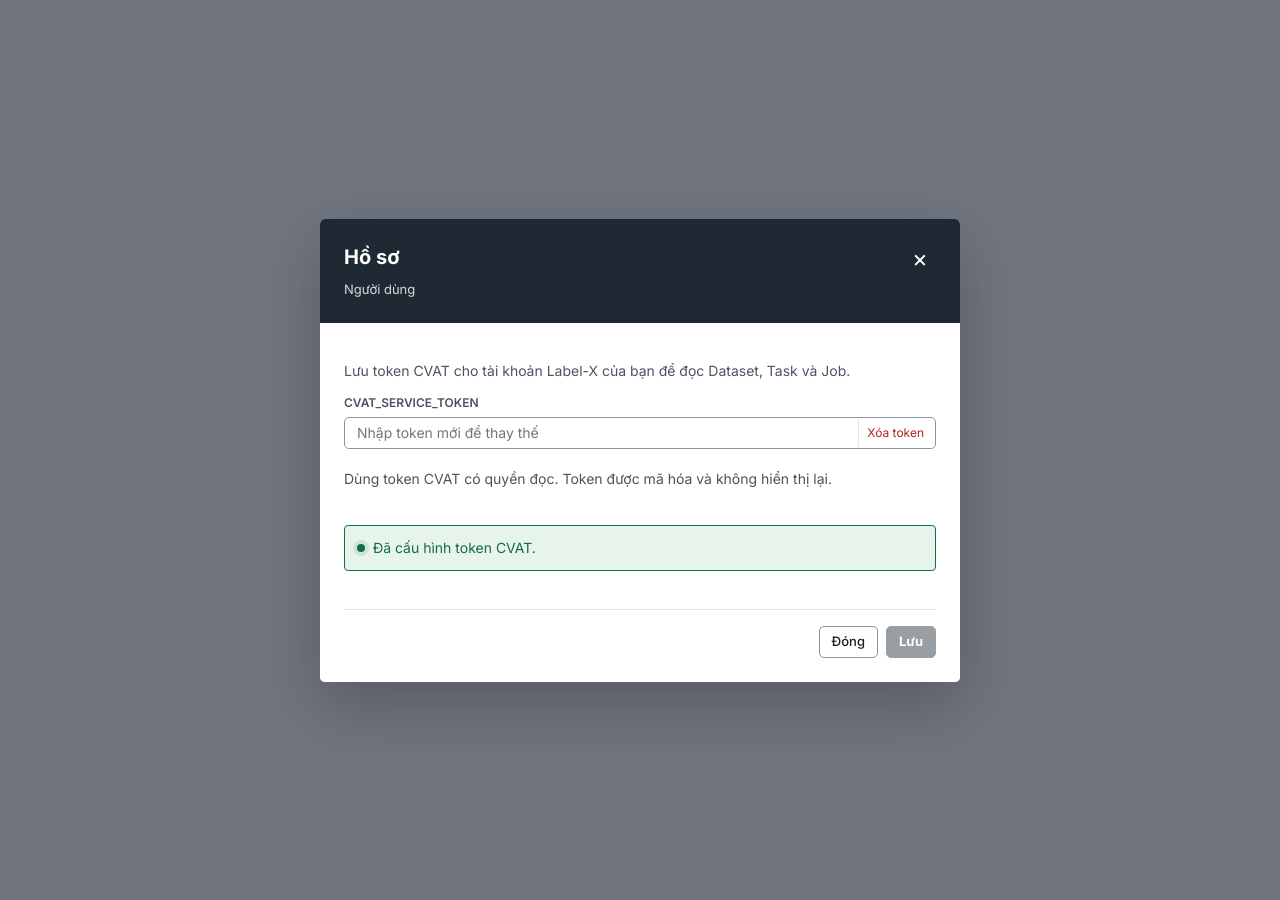
Test case: shows the configured indicator and removes the saved token from the input
This screenshot has width=1280, height=900.
Click the button with aria-label "Xóa token CVAT hiện tại": {"x": 895, "y": 432} 858,418 -> 932,446
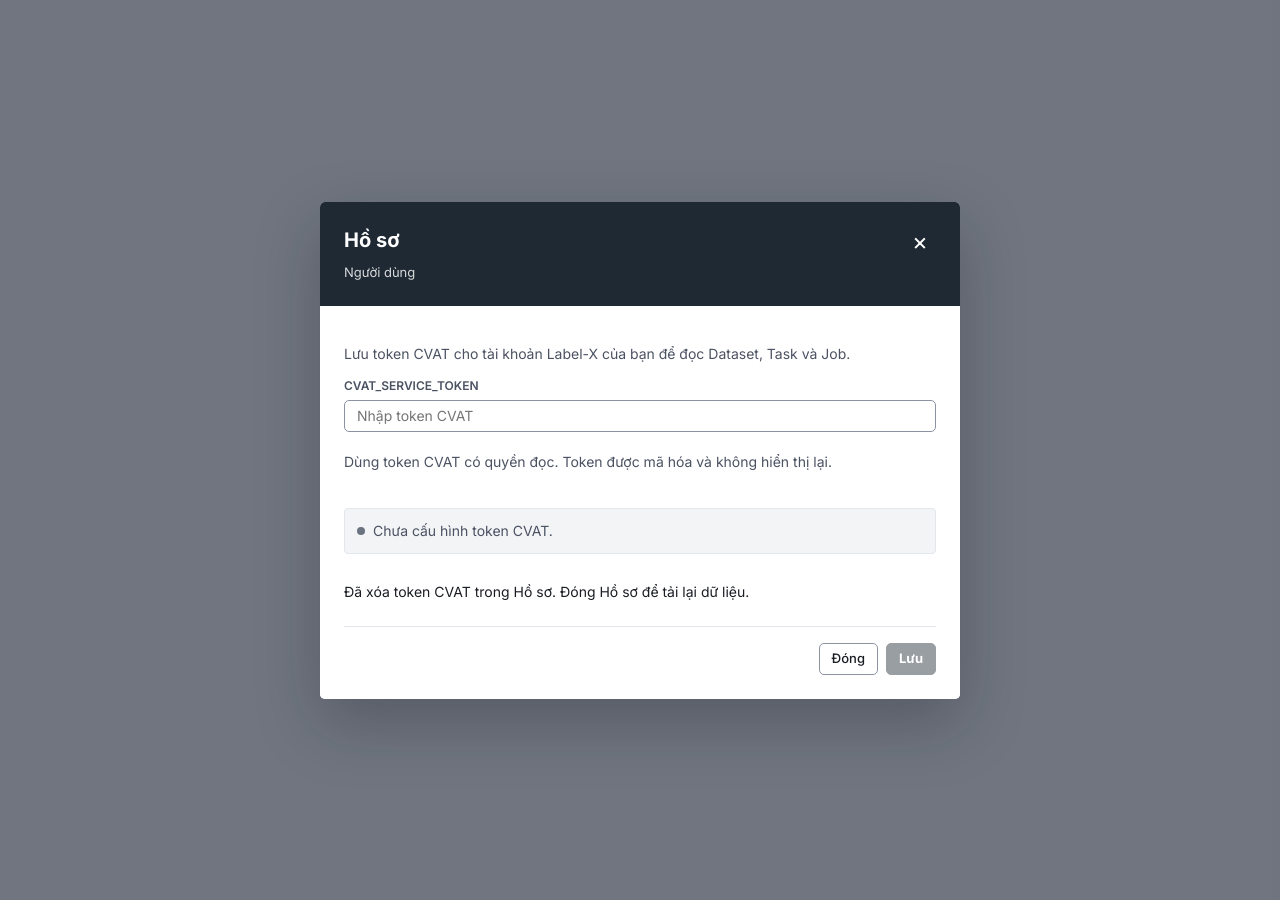
Now the text "Chưa cấu hình token CVAT." is shown, box 344,508 -> 936,554
